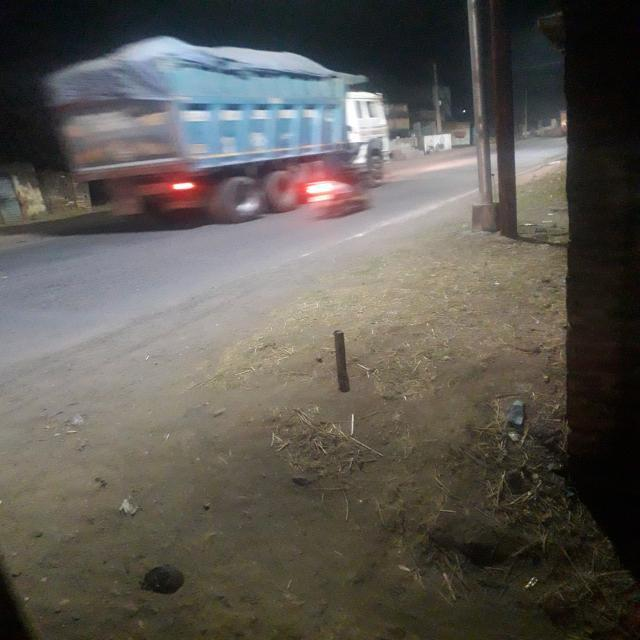truck_back: (36, 32, 396, 228)
two_wheeler_back: (291, 170, 385, 224)
